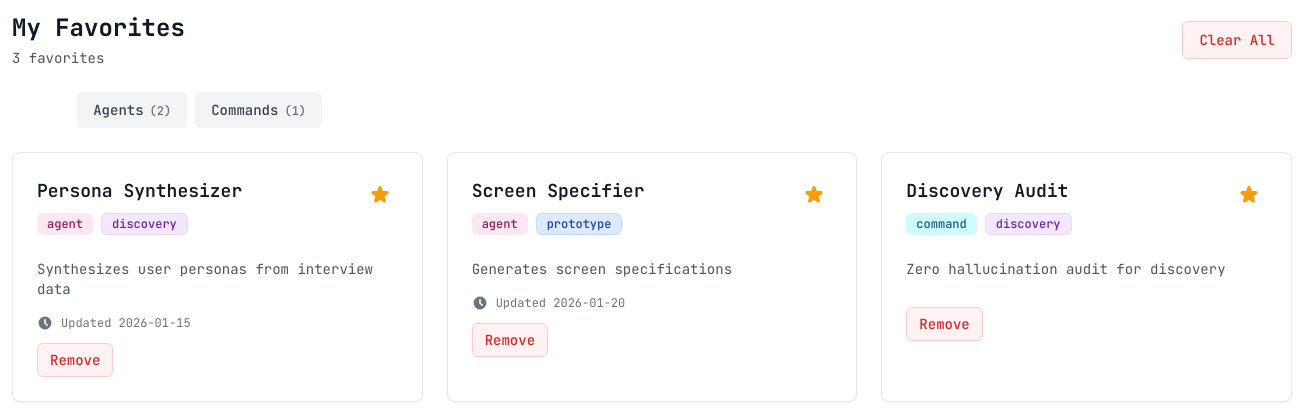
FavoritesPanel › Type Filtering › filters by command type
The width and height of the screenshot is (1304, 419).
Click the button "Commands(1)" at (259, 110), box [195,92,322,128]
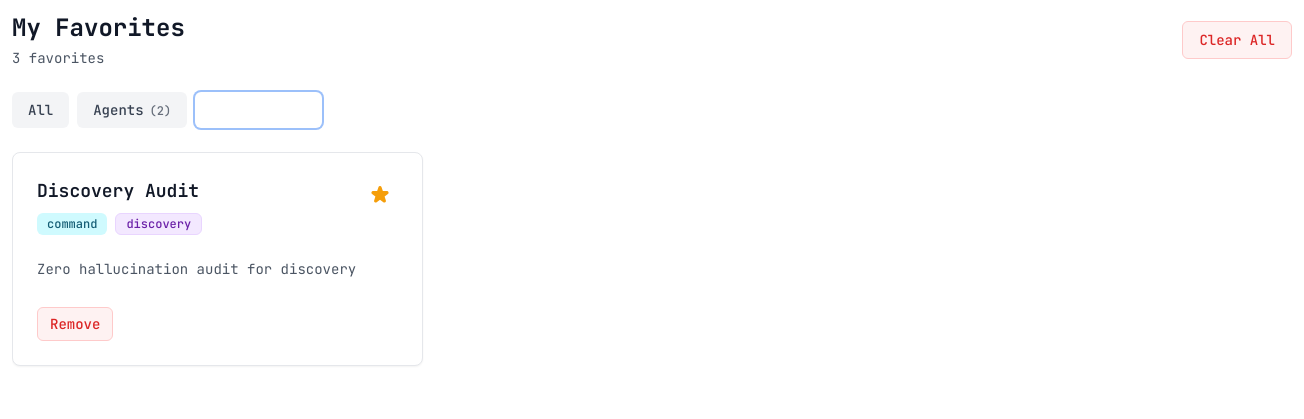
Expected: the heading "Discovery Audit" is shown, [37,179,199,202]
Expected: the heading "Persona Synthesizer" is gone
Expected: the heading "Screen Specifier" is gone
